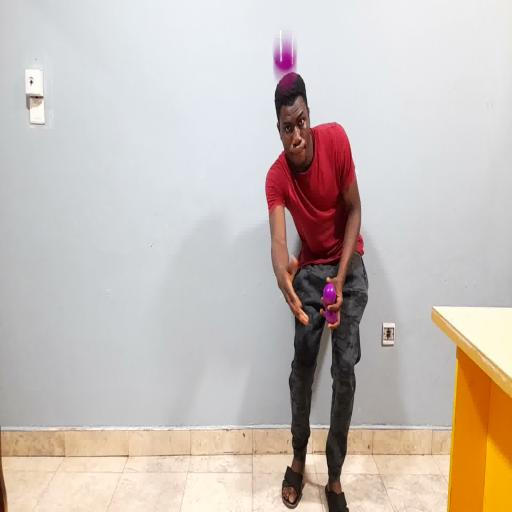plastic-ball: (269, 30, 300, 91)
